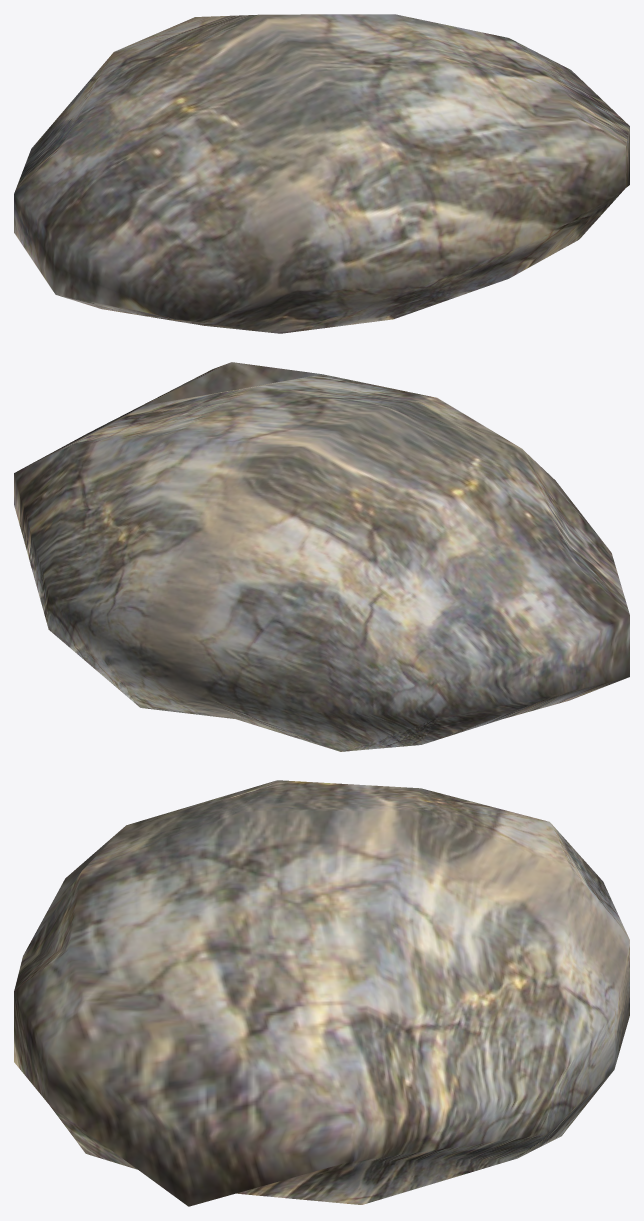
The model's file is H17pierrePetite.fbx.
3 renders of one model, top to bottom at view 1: azimuth 30°, elevation 25°; view 2: azimuth 150°, elevation 25°; view 3: azimuth 270°, elevation 25°, orthographic. The views are drawn at different scales.
Visible parts, largest first — view 1: pierrePetite; view 2: pierrePetite; view 3: pierrePetite.
Part boxes in pixels (x1,y1,x2,y2): pierrePetite: (14,14,629,333); pierrePetite: (14,362,629,751); pierrePetite: (14,780,629,1206).
Size of the model in its own units: 0.4831 by 0.1893 by 0.3747.
